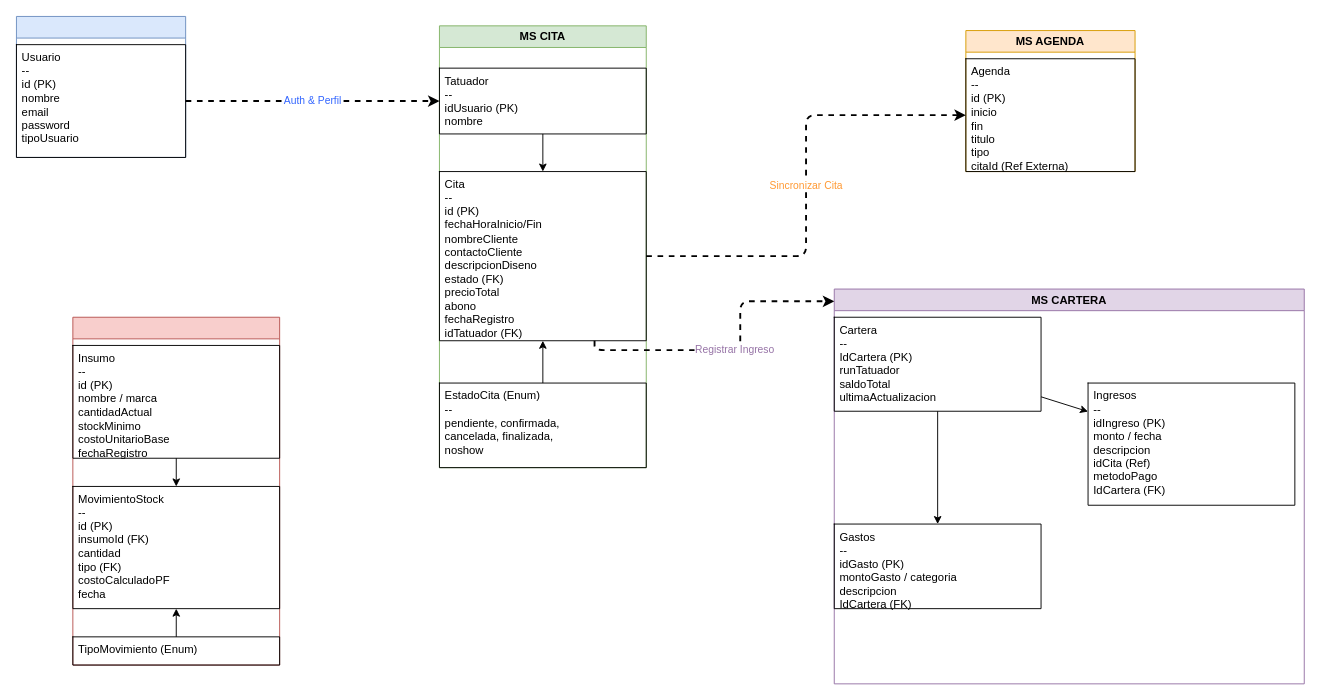
Image size: 1321x700. Some labels were removed from this diagram. Here are the shapes that lost their labels. From the top down, the box of each, then its label:
(16, 16, 186, 157): MS USUARIO
(72, 316, 280, 665): MS PRODUCTOS
